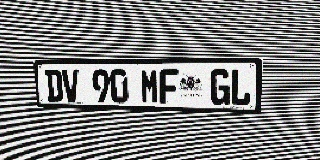0: (109, 69, 128, 103)
9: (92, 69, 110, 103)
D: (45, 69, 63, 102)
F: (159, 69, 178, 104)
G: (210, 69, 230, 105)
L: (230, 69, 252, 105)
M: (140, 69, 159, 104)
V: (61, 69, 80, 102)
